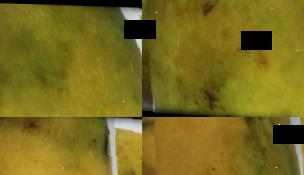PartiallyRipe: (142, 0, 304, 117), (0, 0, 142, 117)
Ripe: (142, 117, 304, 175), (0, 117, 142, 175)
